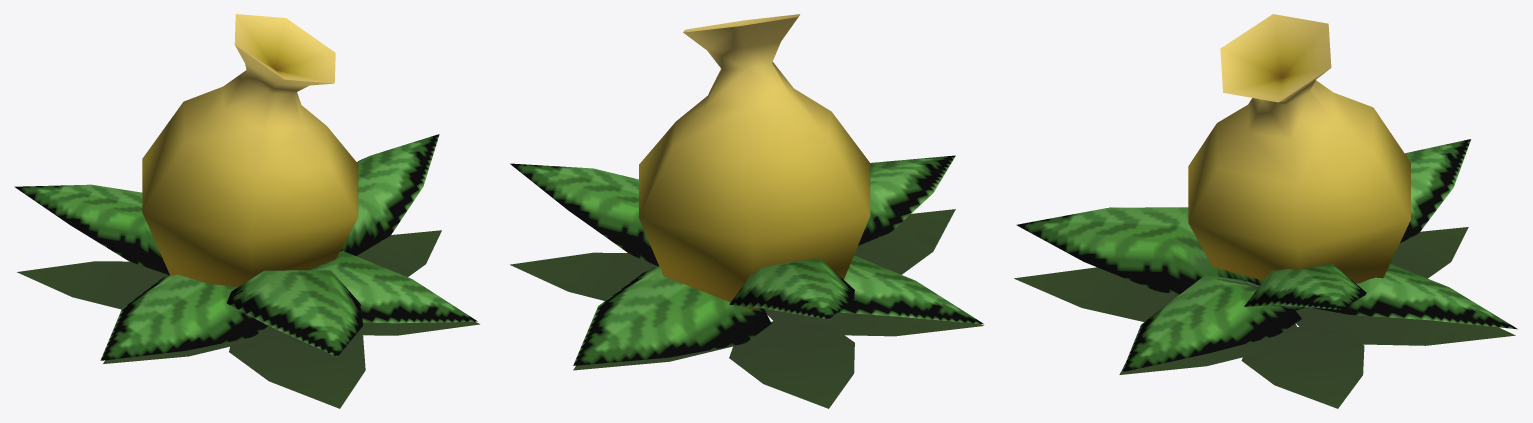
Rendered from deco_flowerBig_yellow.FBX.
3 renders of one model, left to right at view 1: azimuth 30°, elevation 25°; view 2: azimuth 150°, elevation 25°; view 3: azimuth 270°, elevation 25°, orthographic. The views are drawn at different scales.
Visible parts, largest first — view 1: deco_flowerBig_yellow; view 2: deco_flowerBig_yellow; view 3: deco_flowerBig_yellow.
Boxes of the visible parts, x1,y1,x2,y2 form: deco_flowerBig_yellow: (14, 14, 479, 408); deco_flowerBig_yellow: (510, 14, 983, 408); deco_flowerBig_yellow: (1014, 14, 1517, 408).
Bounding box in the file's own units: 1.9 × 1.25 × 2.05.
Materials: 1 (1 with a texture image).
